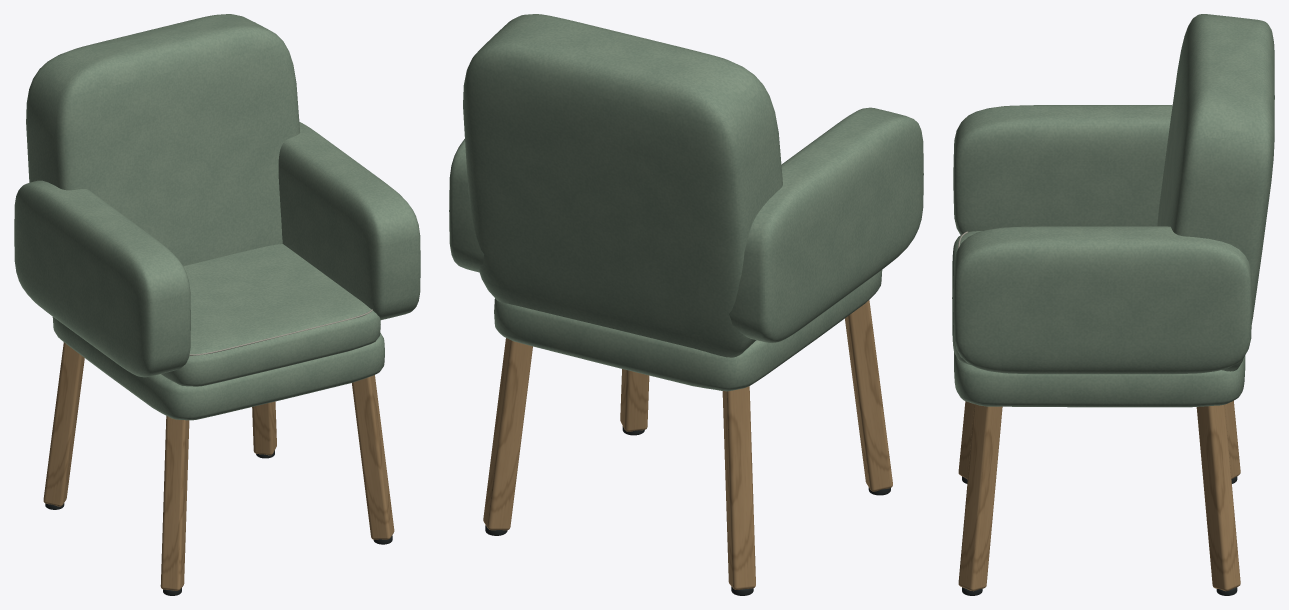
The picture shows the model from 3 angles, left to right: view 1: azimuth 30°, elevation 25°; view 2: azimuth 150°, elevation 25°; view 3: azimuth 270°, elevation 25°; orthographic projection. The views are drawn at different scales.
Parts seen in each view (by area): view 1: Upholstery | embracing back, Upholstery | low dining arm, Upholstery | dining seat, Upholstery | low dining arm.001, Upholstery | seat foundation, Frame | timber leg, Frame | timber leg.002, Frame | timber leg.001, Frame | timber leg.003; view 2: Upholstery | embracing back, Upholstery | low dining arm, Upholstery | seat foundation, Frame | timber leg.001, Frame | timber leg.003, Frame | timber leg, Upholstery | low dining arm.001, Frame | timber leg.002; view 3: Upholstery | low dining arm.001, Upholstery | low dining arm, Upholstery | embracing back, Upholstery | seat foundation, Frame | timber leg.002, Frame | timber leg.003, Frame | timber leg, Frame | timber leg.001, Upholstery | dining seat.
Part boxes in pixels (x1,y1,x2,y2): Upholstery | embracing back: (26, 14, 299, 266); Upholstery | low dining arm: (14, 180, 190, 377); Upholstery | dining seat: (161, 244, 380, 386); Upholstery | low dining arm.001: (278, 122, 420, 319); Upholstery | seat foundation: (52, 317, 384, 420); Frame | timber leg: (160, 416, 189, 590); Frame | timber leg.002: (352, 375, 394, 539); Frame | timber leg.001: (43, 342, 84, 506); Frame | timber leg.003: (252, 401, 276, 455); Upholstery | embracing back: (463, 14, 782, 357); Upholstery | low dining arm: (729, 107, 923, 342); Upholstery | seat foundation: (494, 270, 882, 391); Frame | timber leg.001: (722, 386, 755, 589); Frame | timber leg.003: (483, 338, 532, 530); Frame | timber leg: (845, 300, 892, 491); Upholstery | low dining arm.001: (449, 139, 484, 272); Frame | timber leg.002: (620, 369, 649, 431); Upholstery | low dining arm.001: (953, 226, 1252, 374); Upholstery | low dining arm: (953, 105, 1172, 234); Upholstery | embracing back: (1157, 14, 1274, 371); Upholstery | seat foundation: (954, 352, 1245, 407); Frame | timber leg.002: (958, 404, 1002, 591); Frame | timber leg.003: (1196, 404, 1240, 591); Frame | timber leg: (958, 401, 974, 479); Frame | timber leg.001: (1225, 400, 1240, 479); Upholstery | dining seat: (952, 231, 982, 364).
Size of the model in its own units: 0.677 by 1.03 by 0.6247.
Materials: 4 (2 with a texture image).
